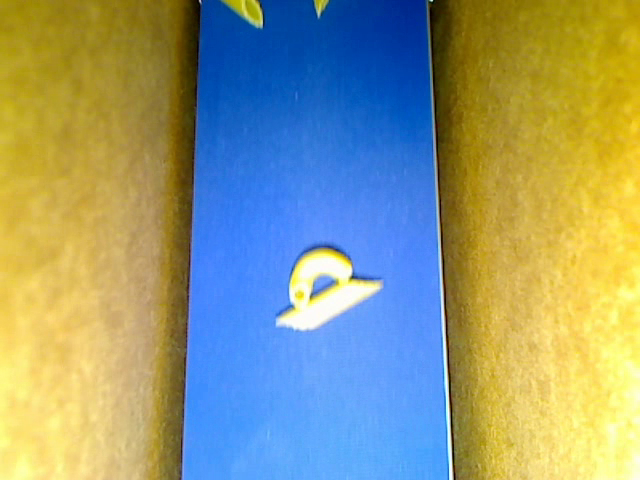elbow: (288, 247, 351, 307)
penne: (273, 278, 383, 332), (221, 1, 264, 29)
